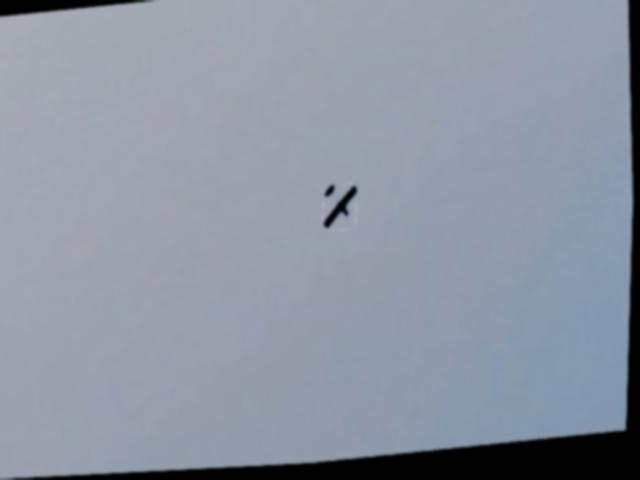insansiz-hava-araci: (323, 186, 361, 235)
